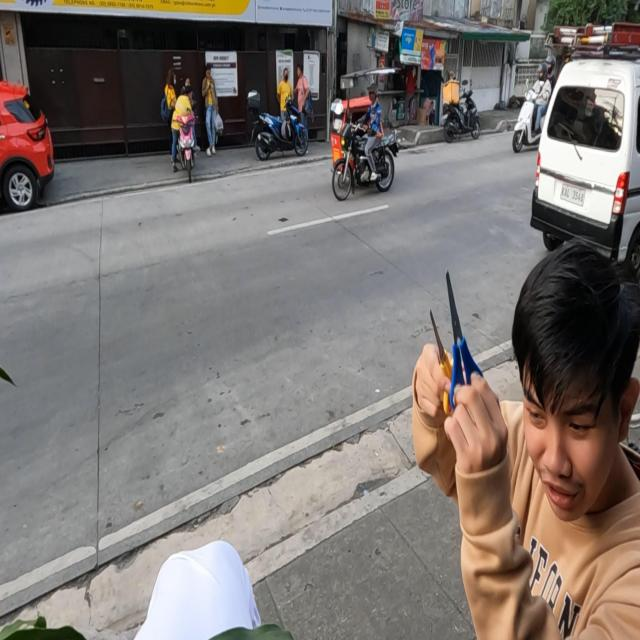scissor: (446, 267, 486, 419), (430, 306, 466, 418)
